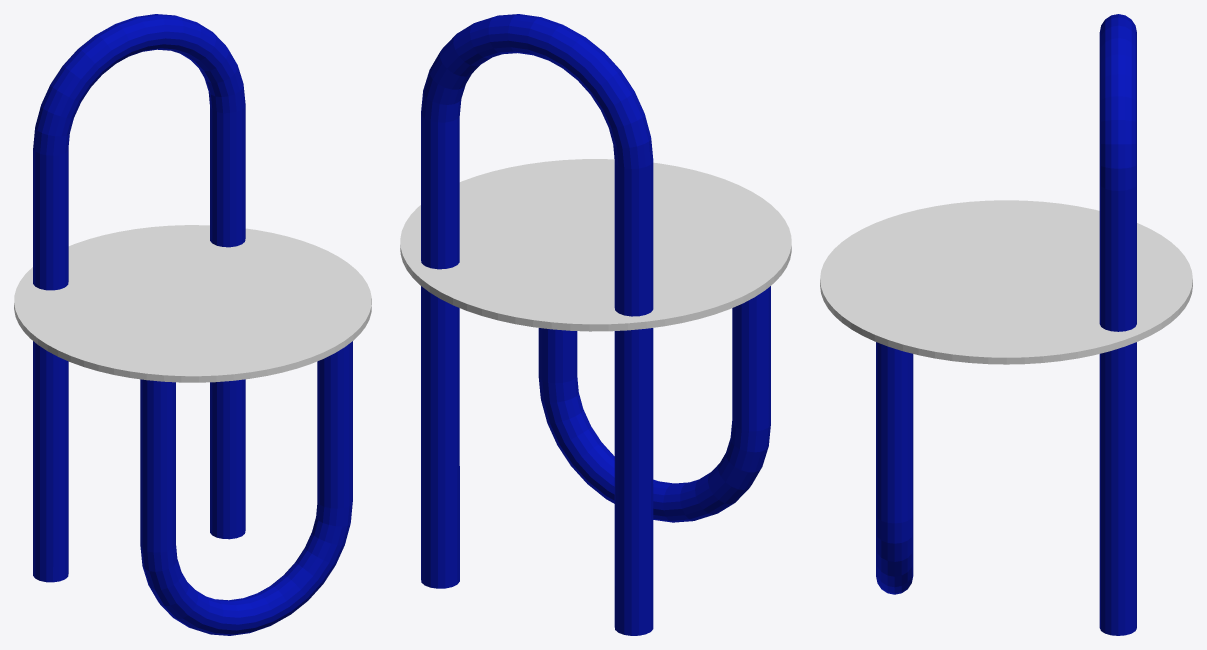
The model's file is modelo.glb.
The picture shows the model from 3 angles, left to right: view 1: azimuth 30°, elevation 25°; view 2: azimuth 150°, elevation 25°; view 3: azimuth 270°, elevation 25°; orthographic projection. The views are drawn at different scales.
Parts seen in each view (by area): view 1: Sedia 2 Chair; view 2: Sedia 2 Chair; view 3: Sedia 2 Chair.
Boxes of the visible parts, x1=… form: Sedia 2 Chair: x1=14, y1=14, x2=371, y2=635; Sedia 2 Chair: x1=400, y1=14, x2=791, y2=635; Sedia 2 Chair: x1=820, y1=14, x2=1192, y2=635.
Bounding box in the file's own units: 1.9 × 3.13 × 1.9.
